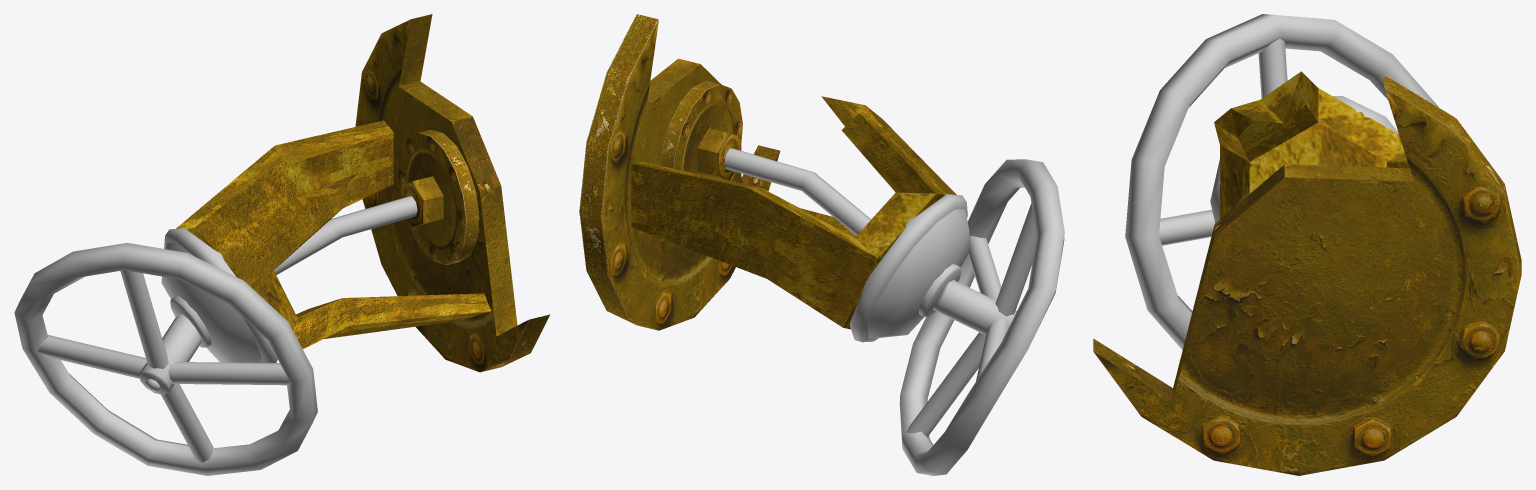
Rendered from valve_broken01_yellow.DAE.
3 views of the same model, side by side, from view 1: azimuth 30°, elevation 25°; view 2: azimuth 150°, elevation 25°; view 3: azimuth 270°, elevation 25° (orthographic). The views are drawn at different scales.
Parts seen in each view (by area): view 1: Box340, Object521, Object523; view 2: Box340, Object521, Object523; view 3: Object521, Box340, Object523.
Boxes of the visible parts, x1,y1,x2,y2 form: Box340: [14, 196, 417, 475]; Object521: [355, 14, 550, 372]; Object523: [176, 120, 490, 348]; Box340: [724, 148, 1064, 475]; Object521: [579, 14, 780, 330]; Object523: [631, 96, 956, 329]; Object521: [1093, 74, 1521, 475]; Box340: [1125, 14, 1439, 349]; Object523: [1214, 71, 1409, 219].
Bounding box in the file's own units: 0.8502 × 0.6316 × 0.7674.
